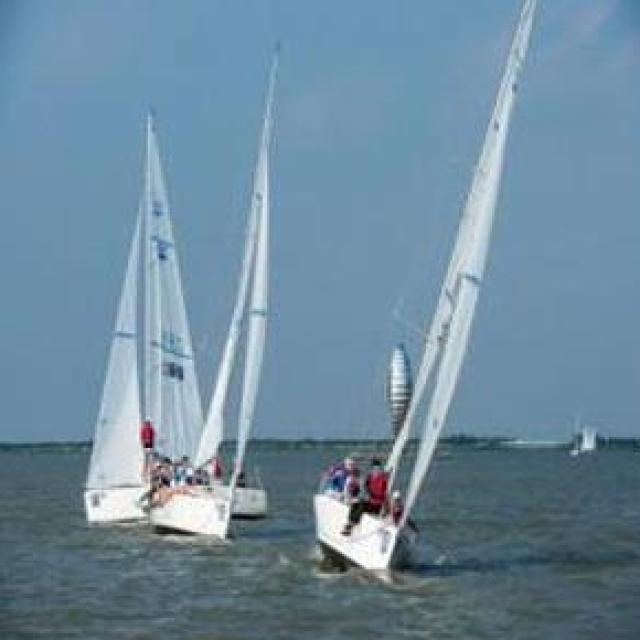sailboat: (314, 0, 536, 596), (84, 104, 260, 516), (154, 51, 278, 530)
